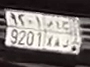0: (27, 19, 34, 46)
1: (35, 16, 42, 48)
2: (18, 13, 26, 45)
9: (10, 13, 18, 45)
A: (54, 21, 61, 48)
J: (61, 21, 70, 48)
X: (46, 20, 54, 47)
